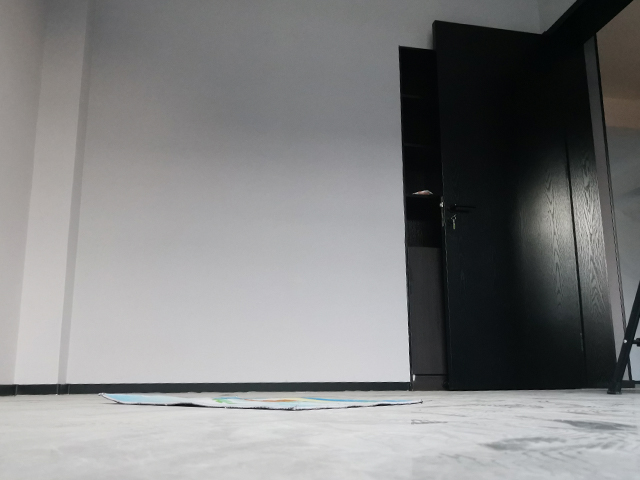carpet: (95, 390, 423, 414)
